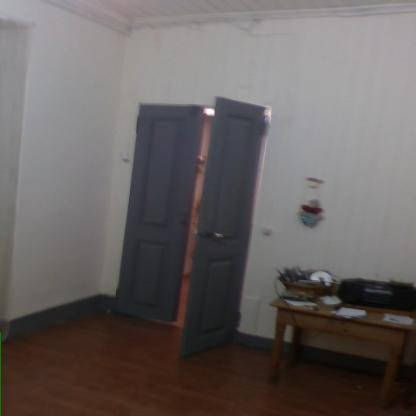open: (120, 83, 273, 349)
